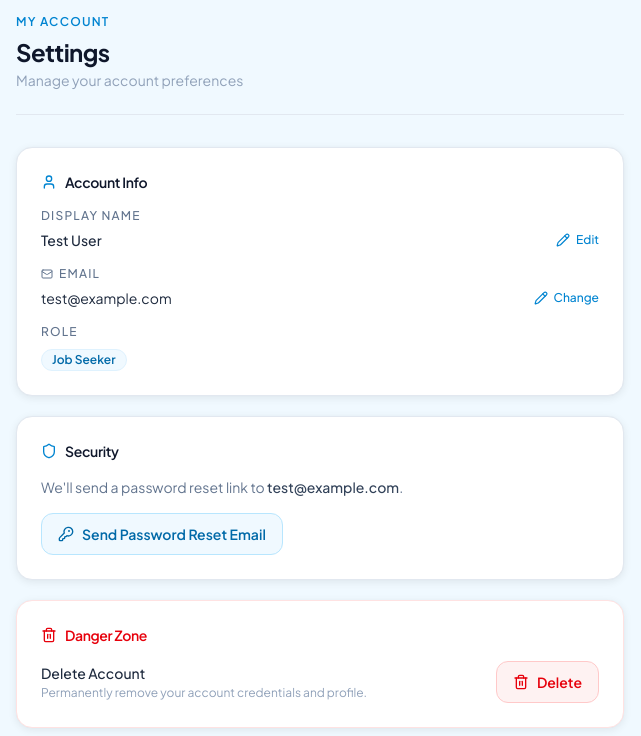
Test: SettingsPage › shows sent confirmation after password reset
Click the button "Send Password Reset Email". click: (162, 534)
box: [41, 513, 283, 555]
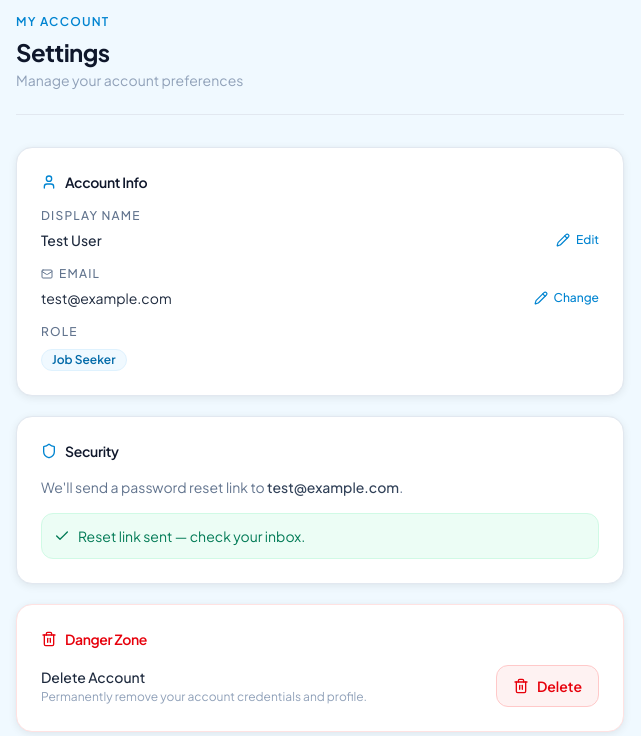
Now the text "Reset link sent — check your inbox." is shown, box [41, 513, 599, 559]
